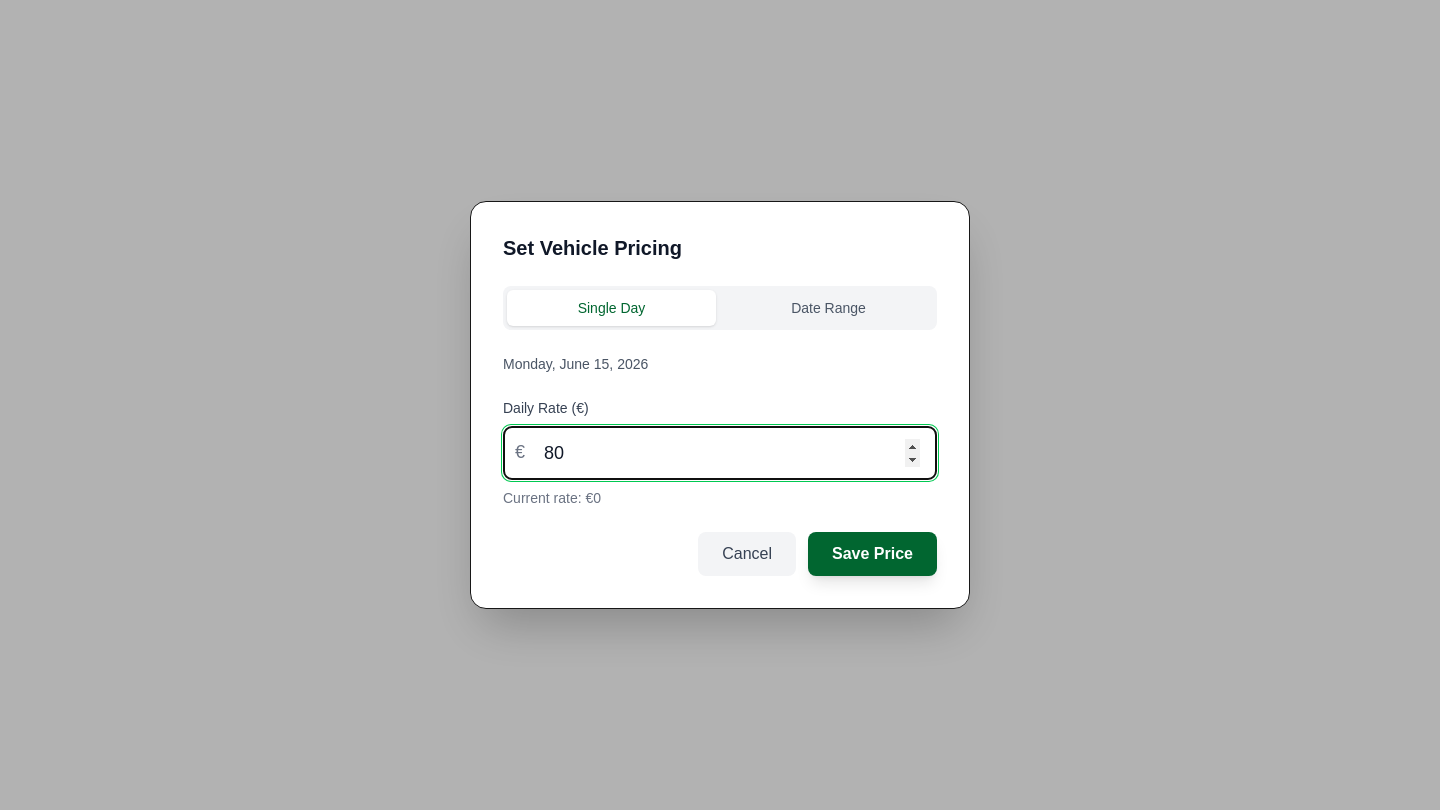
Test: PriceEditModal Component › Date Range Mode › should calculate days in range correctly
This screenshot has width=1440, height=810.
// Switch to Date Range mode
Click the button "Date Range" at (828, 308), box [724,290,933,326]
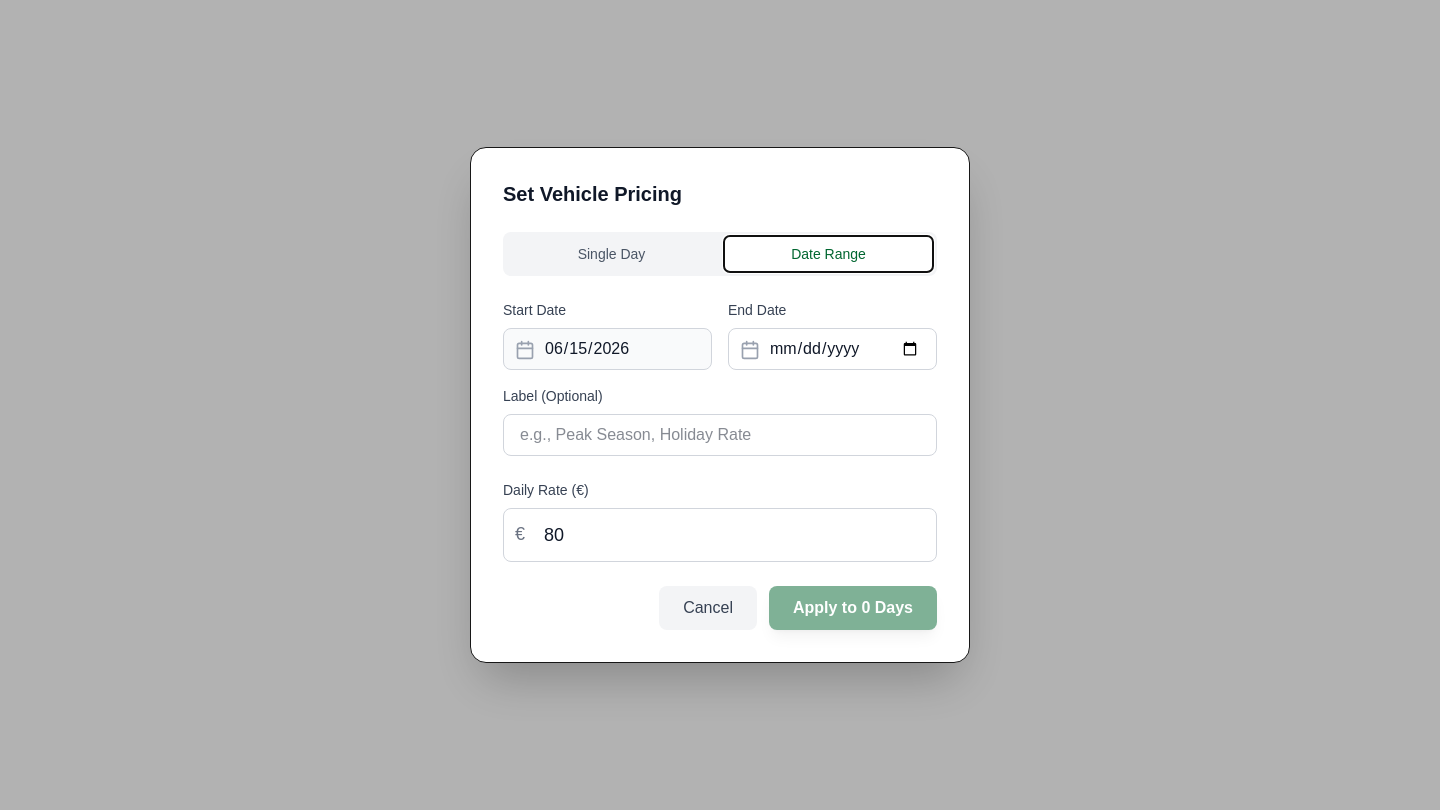
Type "2026-06-20" into the date field below "End Date" at (832, 349), box [728,328,937,370]
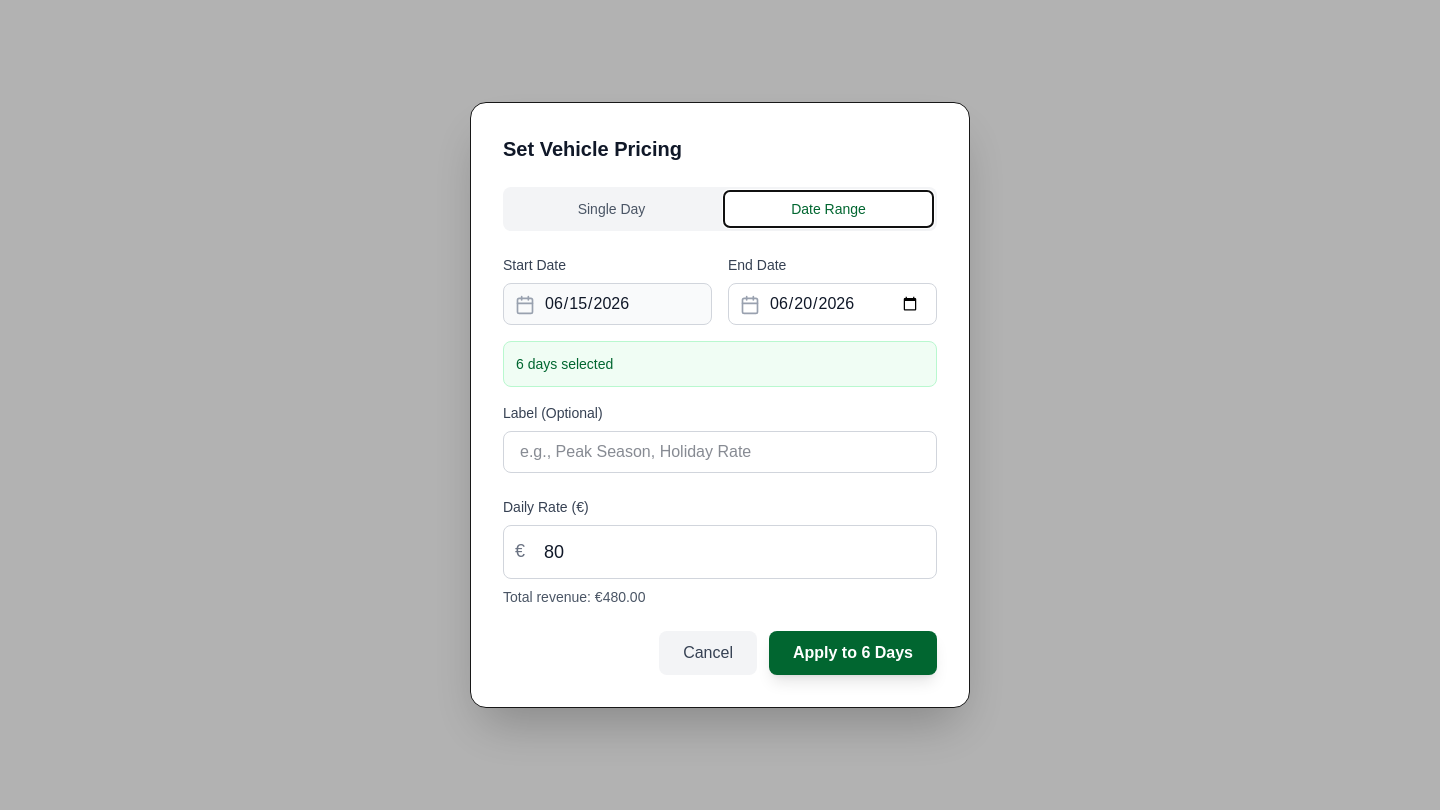
Now the text "6 days selected" is shown, box [516,356,613,372]
